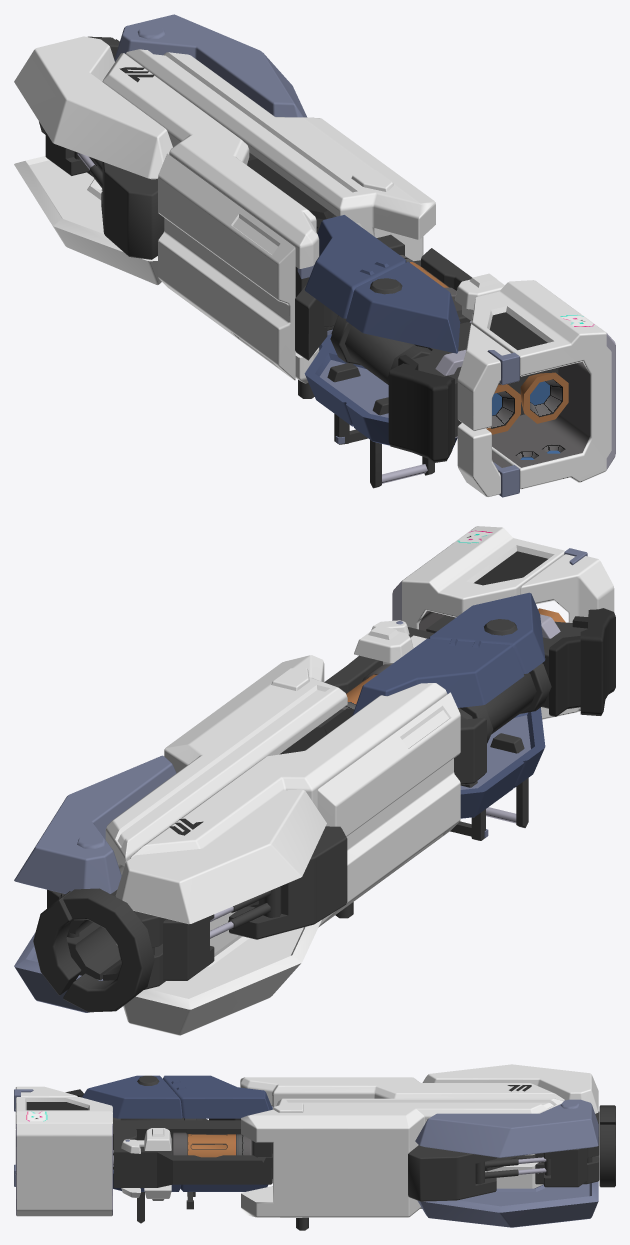
File: aris.glb
The picture shows the model from 3 angles, top to bottom: view 1: azimuth 30°, elevation 25°; view 2: azimuth 150°, elevation 25°; view 3: azimuth 270°, elevation 25°; orthographic projection. The views are drawn at different scales.
Visible parts, largest first — view 1: Aris_Original_Weapon; view 2: Aris_Original_Weapon; view 3: Aris_Original_Weapon.
Part boxes in pixels (x1,y1,x2,y2): Aris_Original_Weapon: [14, 14, 615, 497]; Aris_Original_Weapon: [14, 526, 615, 1035]; Aris_Original_Weapon: [14, 1064, 615, 1230].
Bounding box in the file's own units: 0.3202 × 0.2693 × 1.04.
Materials: 1 (1 with a texture image).
